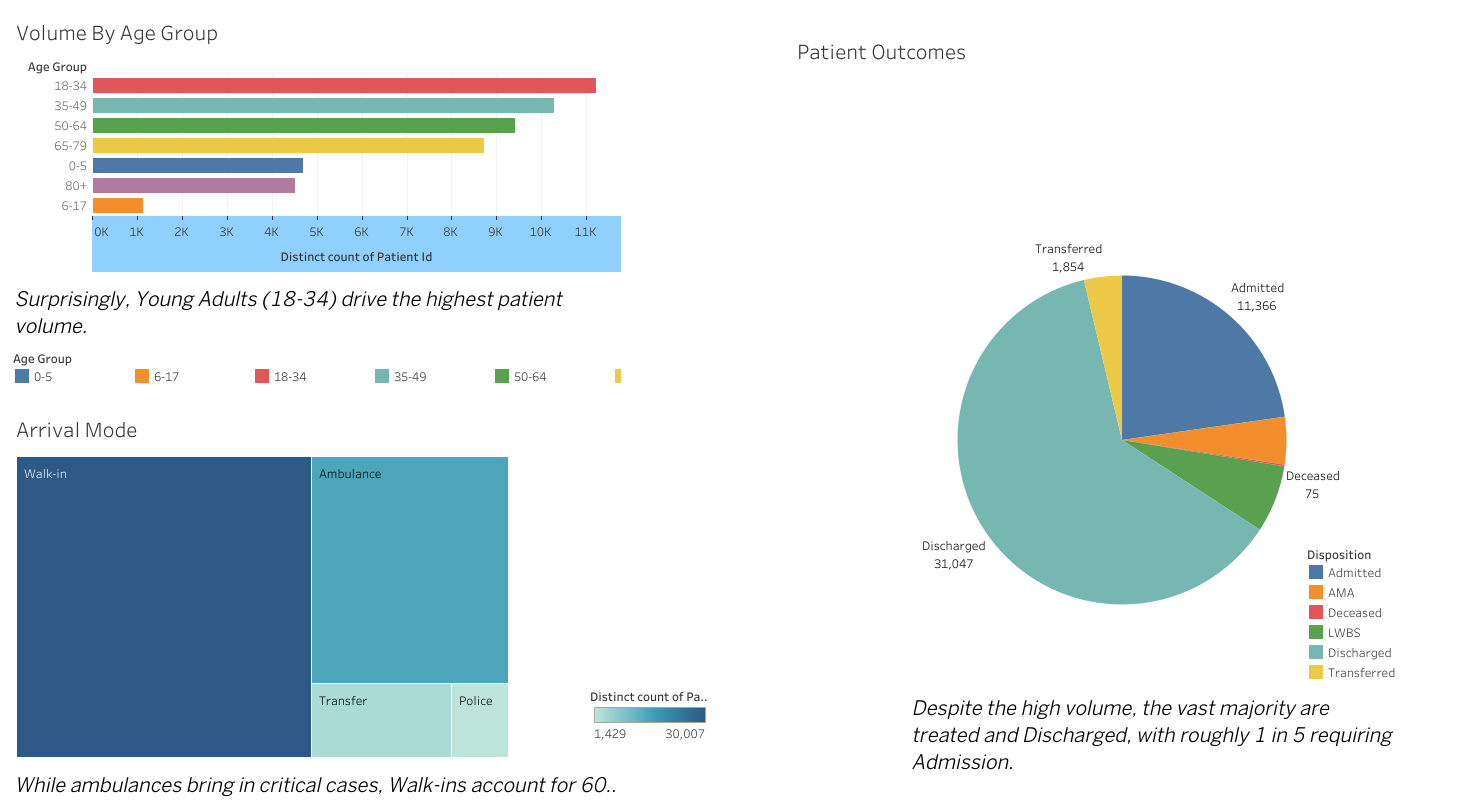

This screenshot's page, from the dashboard's own definition file:
{"tool":"tableau","page":{"name":"Patient Journey","canvas":[1000,1000],"units":"permille","ordinal":1},"visuals":[{"type":"worksheet","title":"Volume By Age Group","mark":"Automatic","rows":["age_group"],"cols":["patient_id"],"box":[4.7,9.5,503.8,337.5]},{"type":"worksheet","title":"Patient Outcomes","mark":"Pie","box":[541.2,38.6,449.4,956.8]},{"type":"text","box":[4.7,347,503.8,76.5]},{"type":"legend","title":"Volume By Age Group","param":"[federated.18t7tso06bx2jc19uggzl03z83vn].[none:age_group:nk]","box":[4.7,423.5,503.8,76.5]},{"type":"worksheet","title":"Arrival Mode","mark":"Automatic","box":[4.7,500,503.8,446.7]},{"type":"legend","title":"Patient Outcomes","param":"[federated.18t7tso06bx2jc19uggzl03z83vn].[none:disposition:nk]","box":[891.2,670.6,81.9,175.4]},{"type":"legend","title":"Arrival Mode","param":"[federated.18t7tso06bx2jc19uggzl03z83vn].[ctd:patient_id:qk]","box":[402.6,843.6,81.9,88.9]},{"type":"text","box":[620.2,855.5,337.6,103.1]},{"type":"text","box":[4.7,946.7,503.8,43.8]}]}

Visuals, with their boxes on the dashboard's canvas, which has no fixed pixel size, in thousandths of its width and height (x1, y1, x2, y2). These are canvas units, not pixel positions in the 1464x809 screenshot, which may show the page scaled, cropped or inside an application window:
"Volume By Age Group" worksheet: [5, 10, 508, 347]
"Patient Outcomes" worksheet (Pie marks): [541, 39, 991, 995]
text: [5, 347, 508, 424]
"Volume By Age Group" legend: [5, 424, 508, 500]
"Arrival Mode" worksheet: [5, 500, 508, 947]
"Patient Outcomes" legend: [891, 671, 973, 846]
"Arrival Mode" legend: [403, 844, 484, 932]
text: [620, 856, 958, 959]
text: [5, 947, 508, 990]
